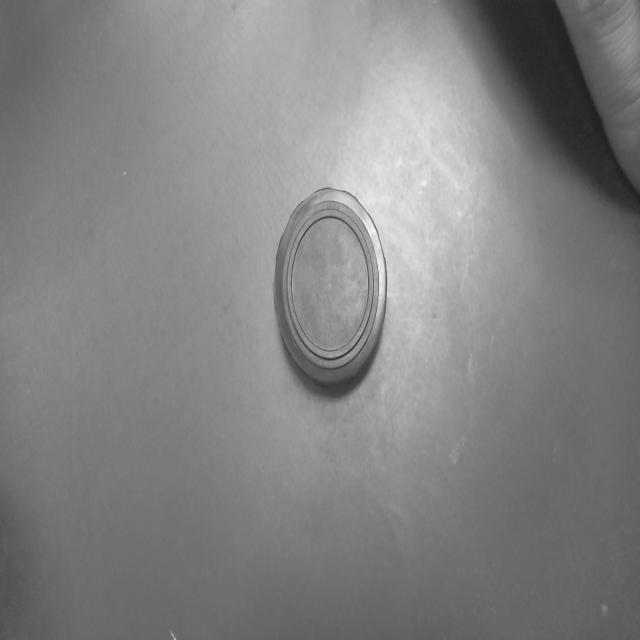cover: (270, 175, 398, 412)
